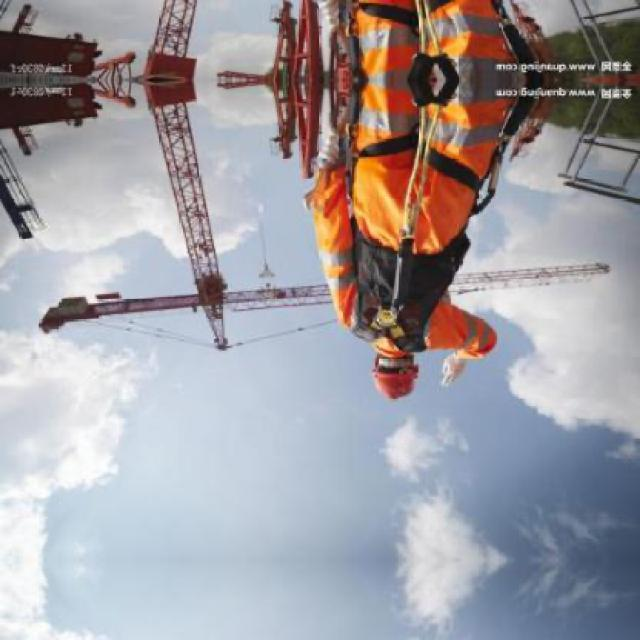con casco: (340, 320, 449, 418)
